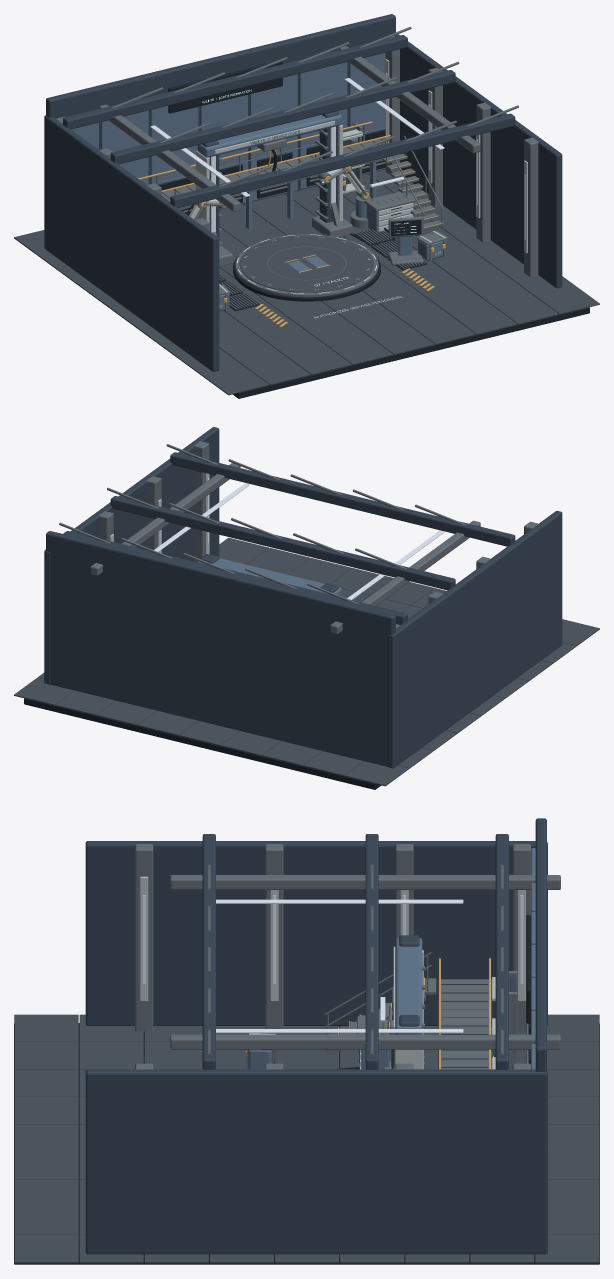
Rendered from HangarRoom.fbx.
The picture shows the model from 3 angles, top to bottom: view 1: azimuth 30°, elevation 25°; view 2: azimuth 150°, elevation 25°; view 3: azimuth 270°, elevation 25°; orthographic projection. The views are drawn at different scales.
Visible parts, largest first — view 1: HangarRoom_Mesh; view 2: HangarRoom_Mesh; view 3: HangarRoom_Mesh.
Boxes of the visible parts, bbox=[...] form: HangarRoom_Mesh: bbox=[14, 14, 599, 398]; HangarRoom_Mesh: bbox=[14, 427, 599, 789]; HangarRoom_Mesh: bbox=[14, 818, 599, 1264].
Bounding box in the file's own units: 17.97 × 7.3 × 18.
